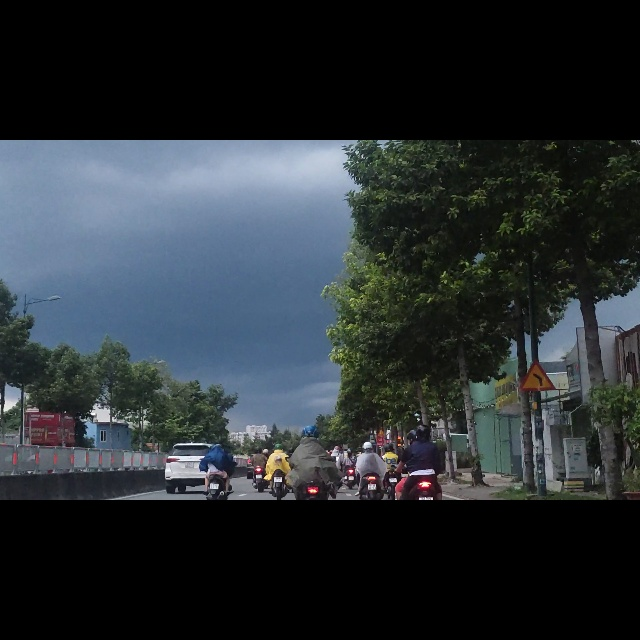bien_hieu_lenh: (519, 390, 556, 446)
